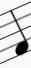note: (8, 8, 29, 57)
